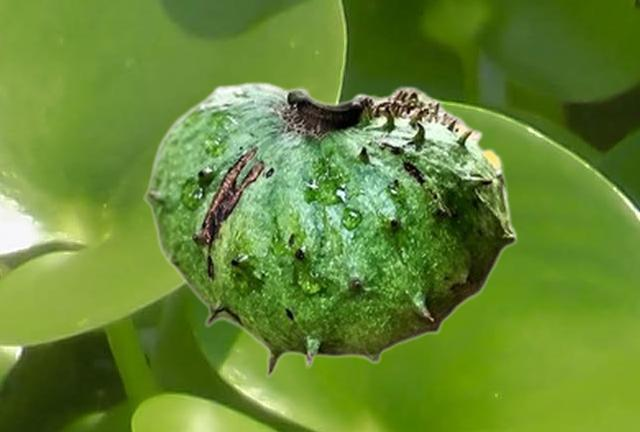guyabano: (143, 81, 517, 377)
